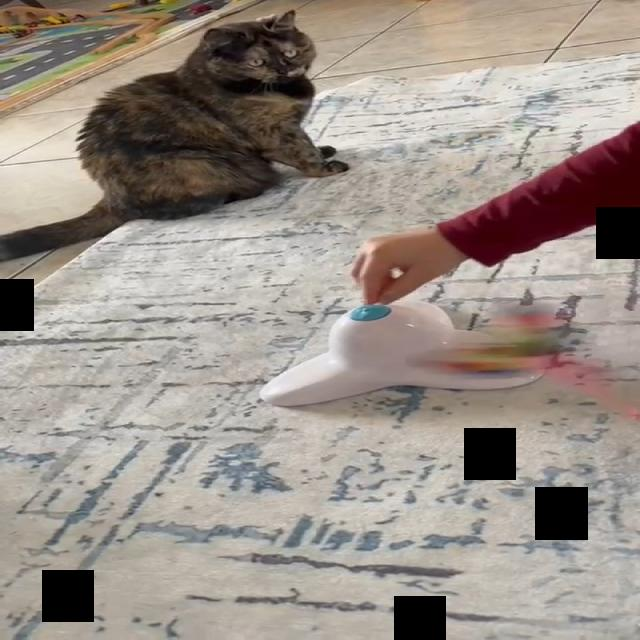authorized: (0, 8, 349, 262)
